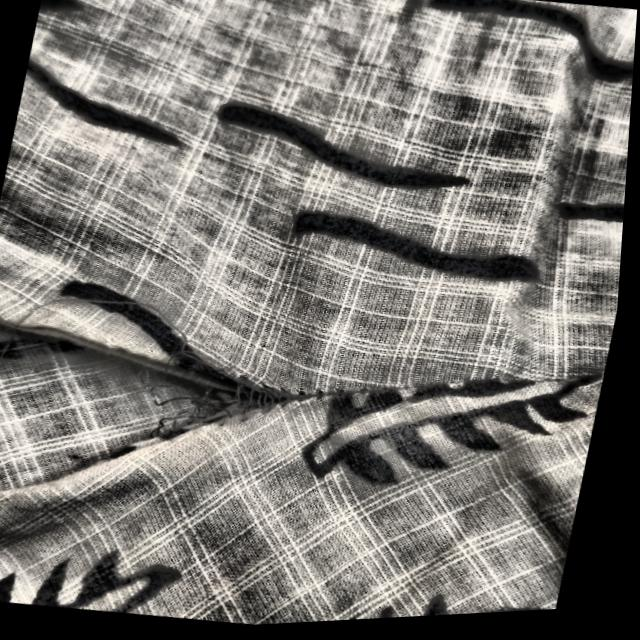Stitch: (0, 252, 348, 530)
